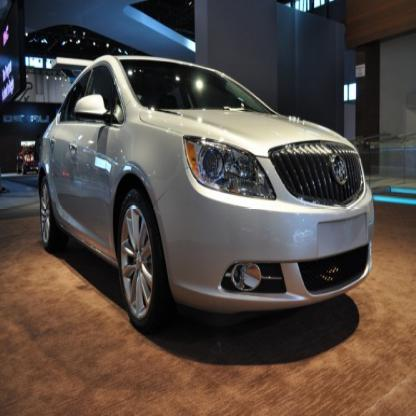Vehicle: (34, 49, 374, 330)
